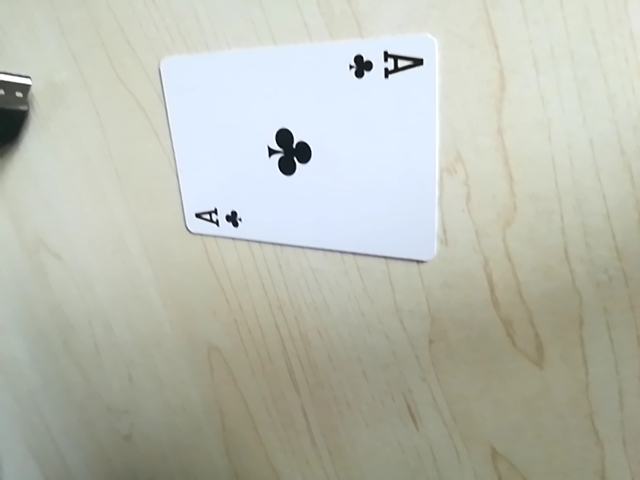mh a: (342, 43, 424, 90), (186, 198, 251, 235)
